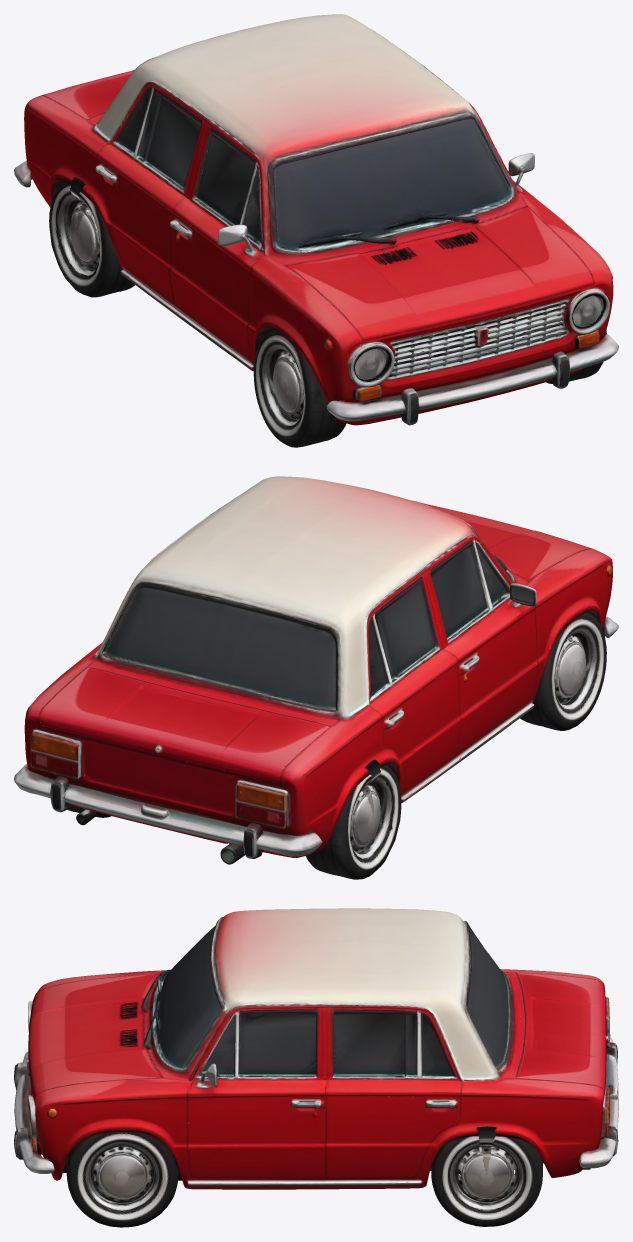
Rendered from tofas_murat_124.glb.
3 renders of one model, top to bottom at view 1: azimuth 30°, elevation 25°; view 2: azimuth 150°, elevation 25°; view 3: azimuth 270°, elevation 25°, orthographic. The views are drawn at different scales.
Parts seen in each view (by area): view 1: tripo_part_1, tripo_part_2, tripo_part_12, tripo_part_14, tripo_part_5, tripo_part_0, tripo_part_8, tripo_part_4, tripo_part_15, tripo_part_7, tripo_part_21, tripo_part_6 (+7 smaller); view 2: tripo_part_1, tripo_part_2, tripo_part_11, tripo_part_16, tripo_part_4, tripo_part_5, tripo_part_15, tripo_part_21, tripo_part_17, tripo_part_12, tripo_part_26, tripo_part_27 (+5 smaller); view 3: tripo_part_1, tripo_part_10, tripo_part_12, tripo_part_19, tripo_part_6, tripo_part_11, tripo_part_9, tripo_part_3, tripo_part_13, tripo_part_22, tripo_part_14, tripo_part_16 (+5 smaller).
Boxes of the visible parts, bbox=[...] form: tripo_part_1: bbox=[88, 14, 528, 266]; tripo_part_2: bbox=[24, 95, 369, 423]; tripo_part_12: bbox=[285, 207, 596, 342]; tripo_part_14: bbox=[274, 119, 510, 250]; tripo_part_5: bbox=[253, 328, 346, 447]; tripo_part_0: bbox=[347, 287, 593, 425]; tripo_part_8: bbox=[326, 334, 618, 425]; tripo_part_4: bbox=[49, 177, 134, 297]; tripo_part_15: bbox=[111, 85, 202, 196]; tripo_part_7: bbox=[391, 300, 566, 375]; tripo_part_21: bbox=[192, 126, 263, 252]; tripo_part_6: bbox=[518, 191, 613, 340]; tripo_part_1: bbox=[88, 476, 529, 725]; tripo_part_2: bbox=[39, 549, 612, 857]; tripo_part_11: bbox=[38, 667, 330, 782]; tripo_part_16: bbox=[106, 588, 335, 709]; tripo_part_4: bbox=[306, 759, 401, 879]; tripo_part_5: bbox=[520, 612, 606, 730]; tripo_part_15: bbox=[367, 576, 443, 704]; tripo_part_21: bbox=[430, 539, 510, 643]; tripo_part_17: bbox=[54, 774, 322, 856]; tripo_part_12: bbox=[412, 500, 593, 581]; tripo_part_26: bbox=[235, 779, 290, 828]; tripo_part_27: bbox=[30, 729, 83, 779]; tripo_part_1: bbox=[141, 908, 522, 1082]; tripo_part_10: bbox=[183, 1063, 461, 1189]; tripo_part_12: bbox=[28, 972, 160, 1098]; tripo_part_19: bbox=[421, 1078, 604, 1181]; tripo_part_6: bbox=[33, 1077, 195, 1184]; tripo_part_11: bbox=[515, 972, 608, 1092]; tripo_part_9: bbox=[66, 1131, 178, 1227]; tripo_part_3: bbox=[431, 1126, 542, 1226]; tripo_part_13: bbox=[334, 1009, 458, 1079]; tripo_part_22: bbox=[196, 1008, 317, 1080]; tripo_part_14: bbox=[155, 926, 220, 1067]; tripo_part_16: bbox=[468, 928, 510, 1067].
Bounding box in the file's own units: 0.5383 × 0.4046 × 0.9995.
1 material, 1 textured.
